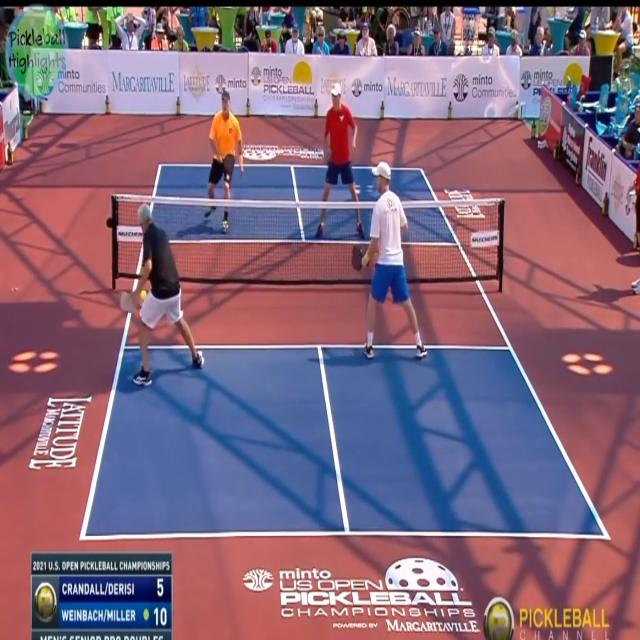Court: (82, 162, 610, 544)
ball: (137, 282, 149, 308)
